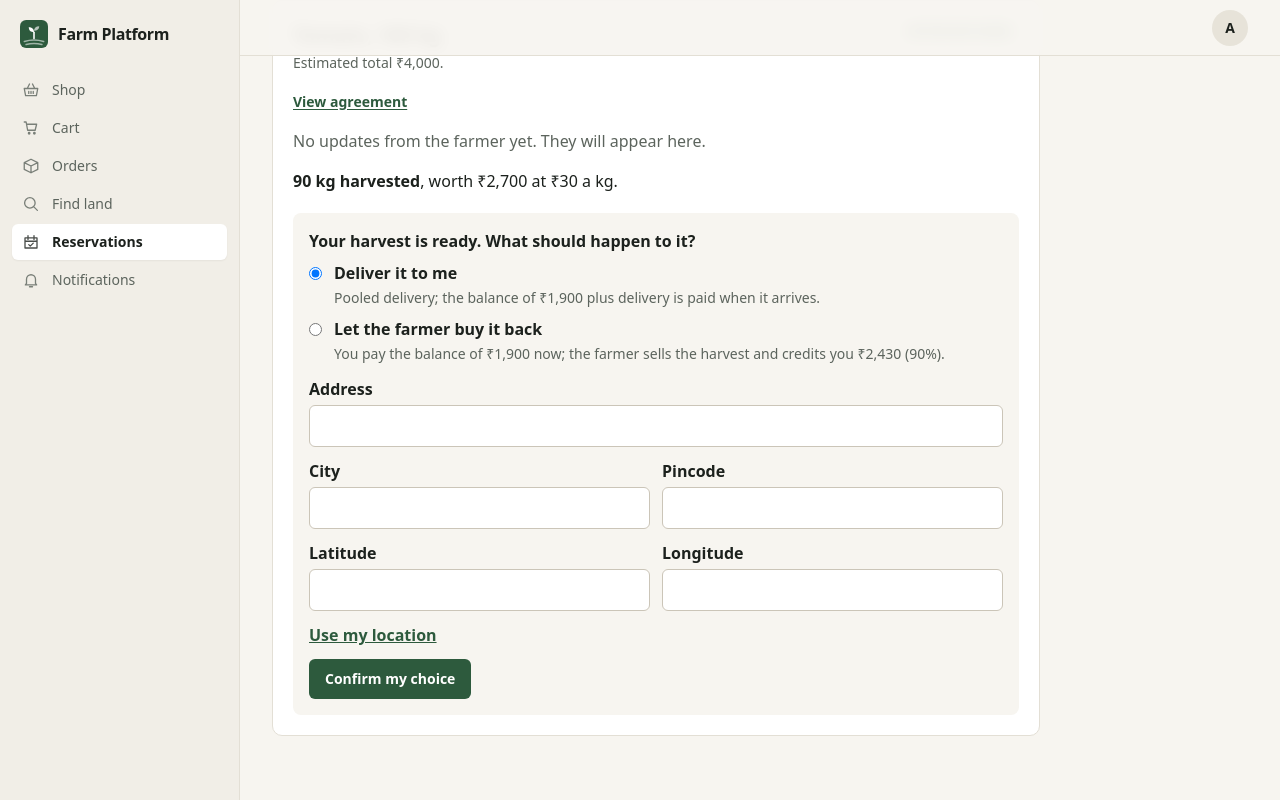
Scenario: my reservations › asks for a valid address before choosing delivery
(page scrolled)
Click the button "Confirm my choice". click: (390, 679)
box: [309,659,471,699]
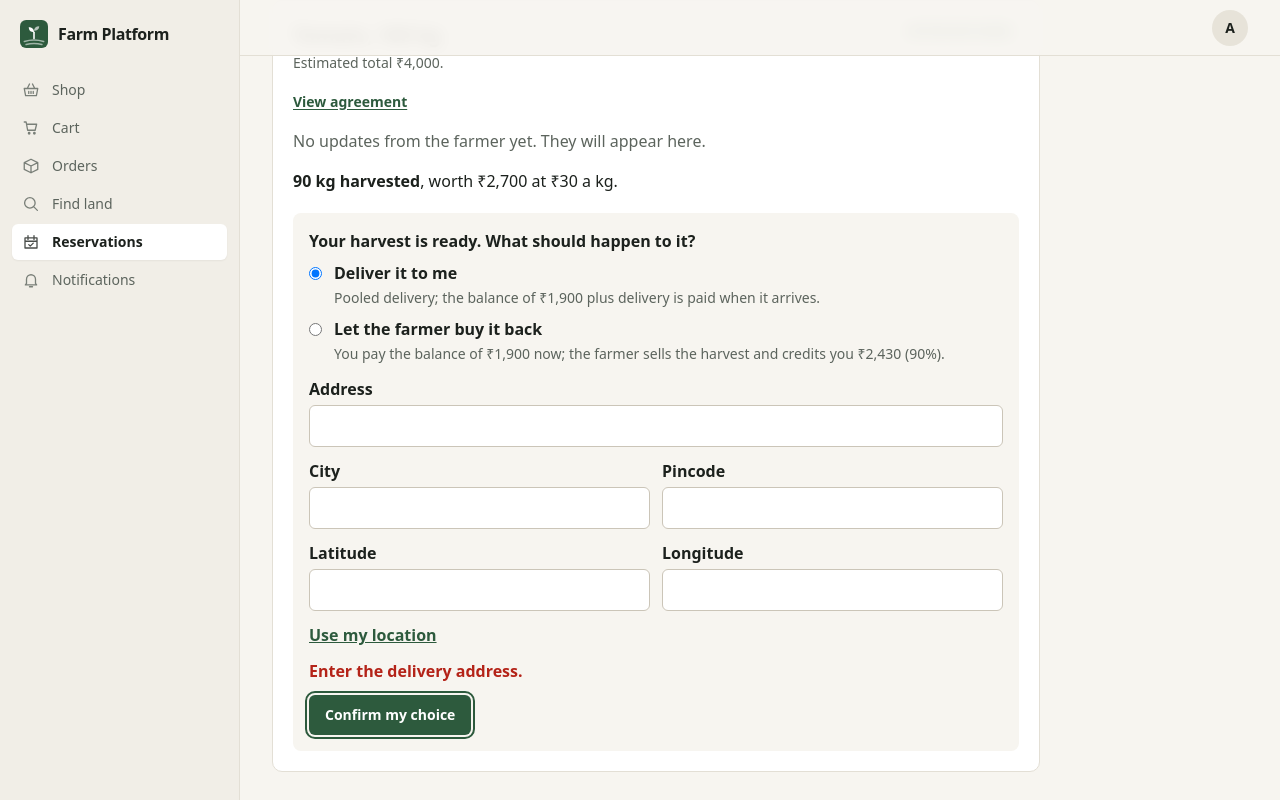
Result: the text "Enter the delivery address." is shown at [309,660,523,682]
